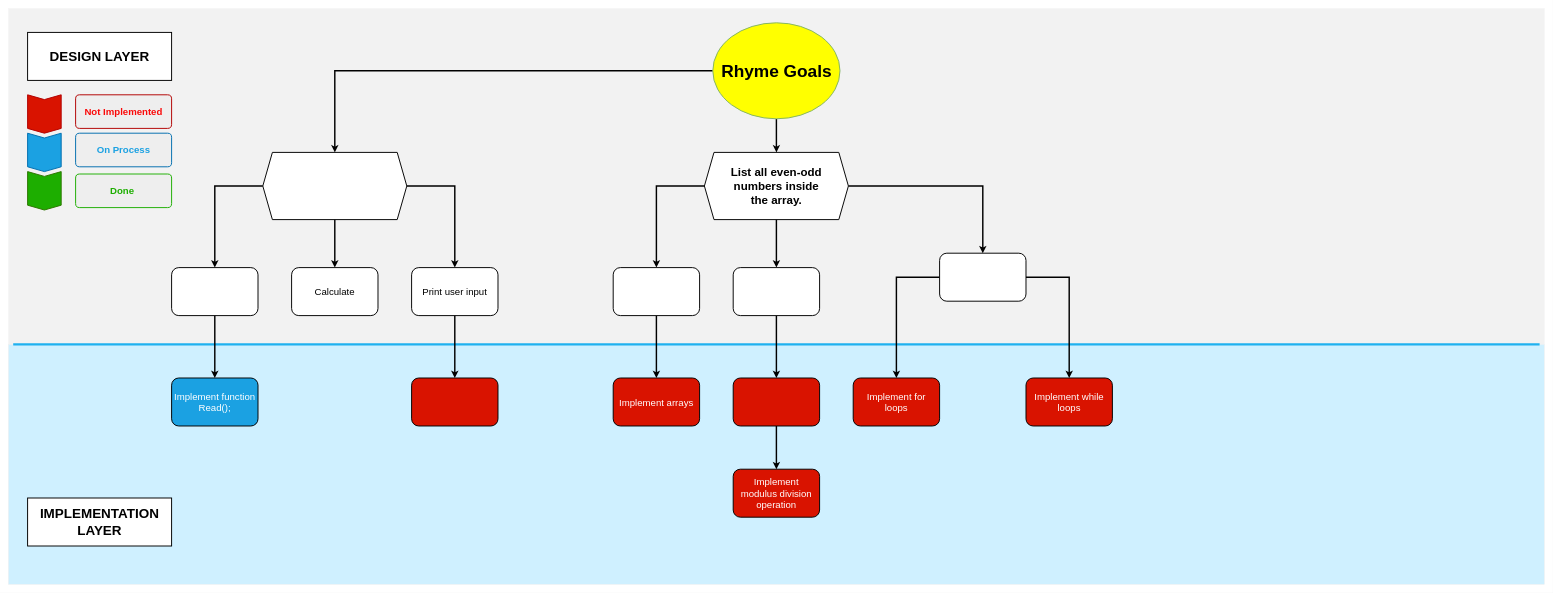
The diagram is 1553 pixels wide and 593 high, and some of its shapes have lost their labels. Here are the shapes that lost their labels. From the top down, the centre of each, then its label:
point 334,186: Calculator
point 214,291: Get user input
point 656,291: Define a list
point 776,291: Modulus
point 982,276: Loop through items
point 454,401: Implement function Print();
point 776,401: Add modulus token
